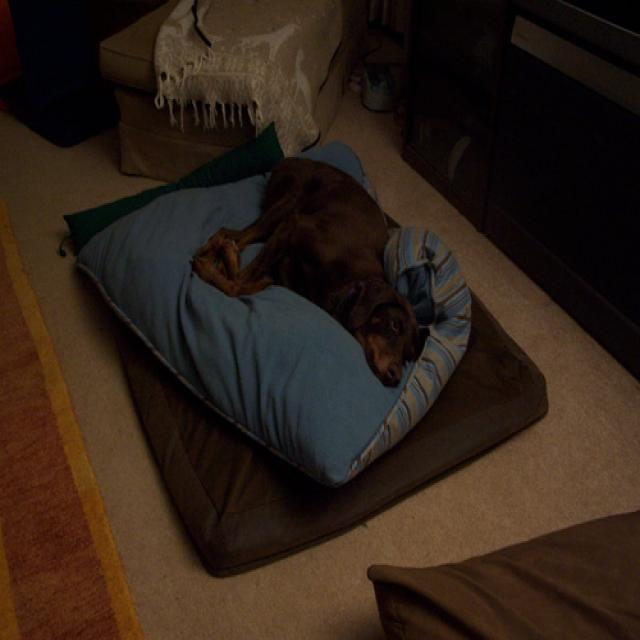Dog: (178, 118, 456, 456)
